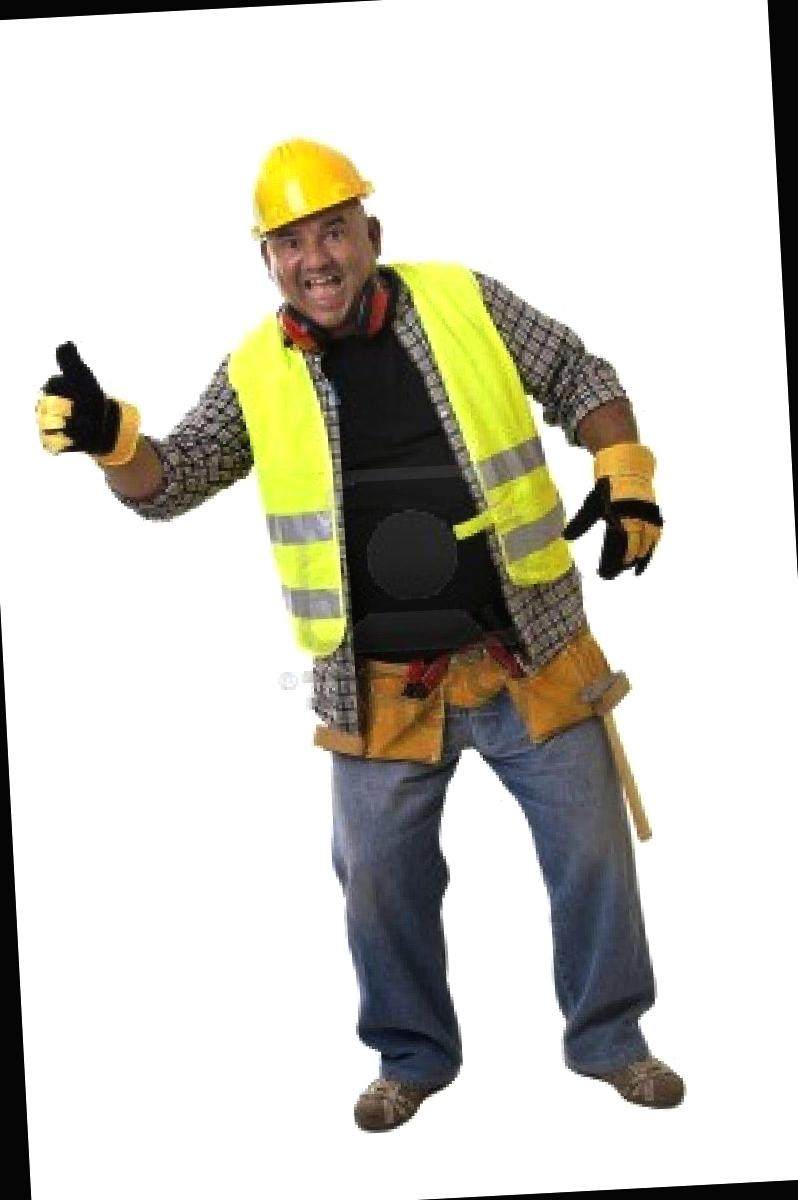helmet: (218, 131, 370, 235)
person: (98, 107, 693, 1120)
